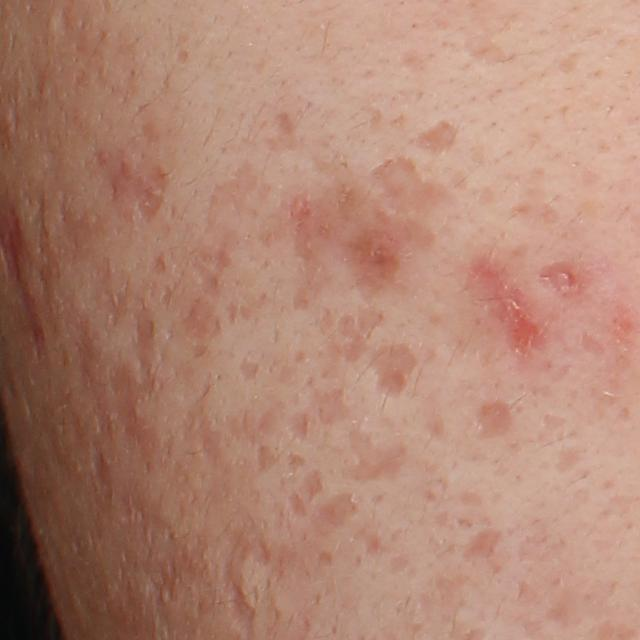atrophic_scar: (258, 111, 456, 401), (109, 303, 162, 462), (177, 230, 237, 360), (199, 160, 266, 235), (102, 149, 173, 219), (336, 427, 408, 484), (280, 387, 350, 443), (243, 542, 282, 640), (309, 492, 359, 534), (474, 400, 518, 442), (462, 31, 506, 71), (536, 259, 584, 295), (410, 119, 458, 153), (548, 589, 582, 631), (460, 529, 500, 564), (578, 325, 609, 363), (399, 49, 438, 77), (556, 444, 590, 473), (299, 468, 327, 501), (256, 443, 281, 474), (556, 47, 582, 75), (236, 356, 261, 384), (368, 106, 387, 138), (285, 453, 307, 478), (286, 492, 306, 519), (390, 111, 411, 133), (314, 551, 331, 570), (175, 48, 191, 66)
